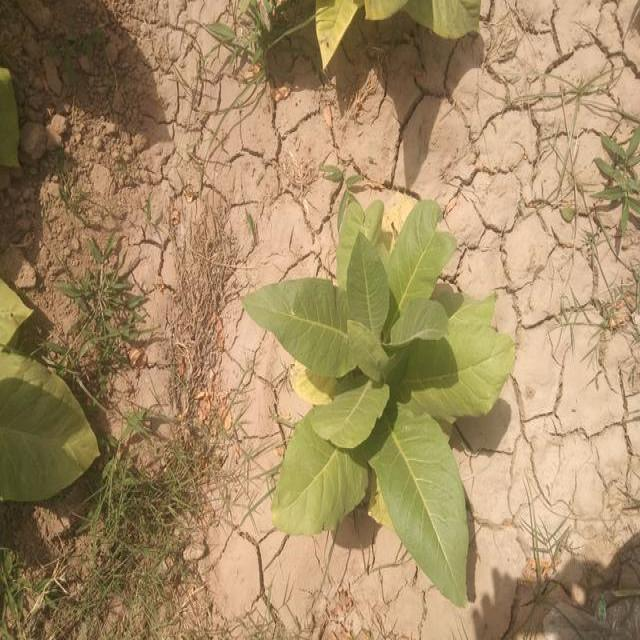crop: (250, 190, 522, 624), (0, 292, 96, 508)
